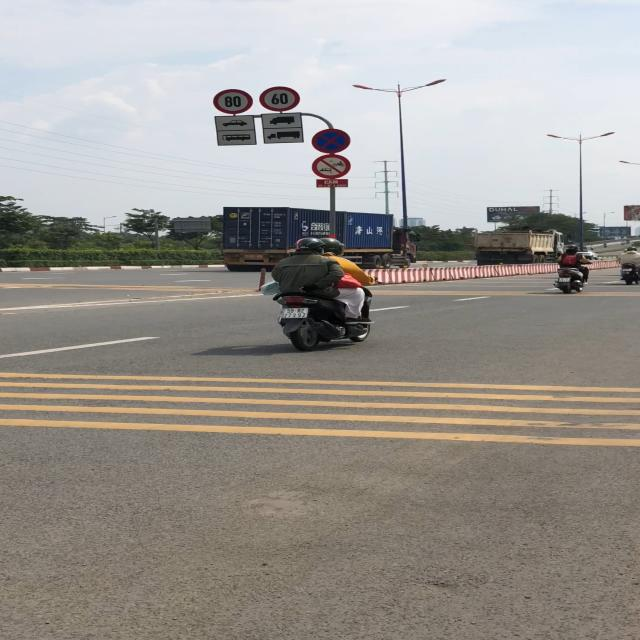Bien bao cam dung xe va do xe: (309, 128, 354, 154)
Bien bao toc do toi da cho phep: (211, 86, 258, 116), (256, 86, 302, 112)
